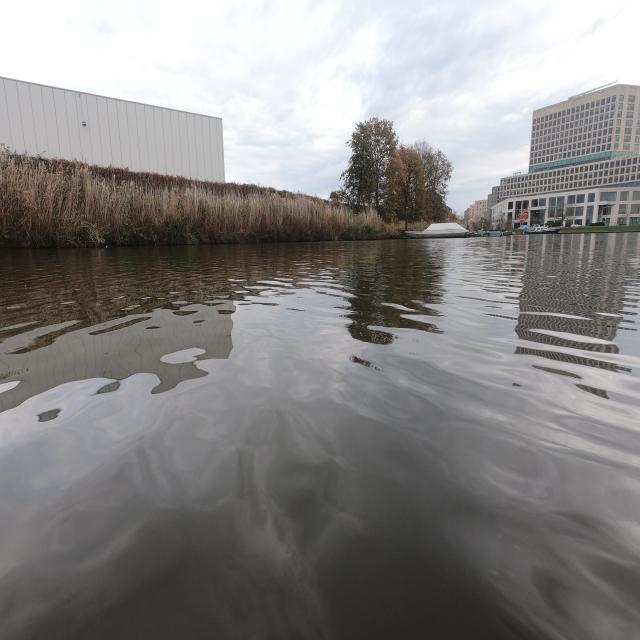boat: (403, 222, 468, 239), (525, 224, 560, 235)
reed: (0, 145, 404, 247), (408, 220, 431, 230)
water: (0, 237, 640, 640)
